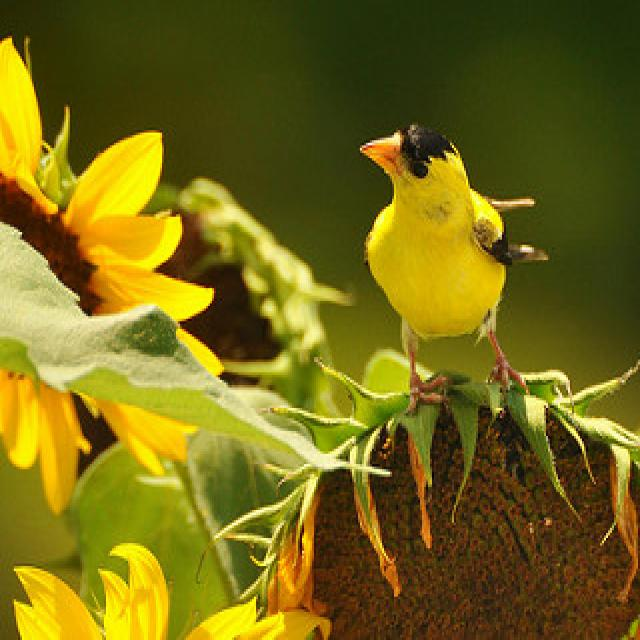sunflower: (0, 23, 232, 523)
